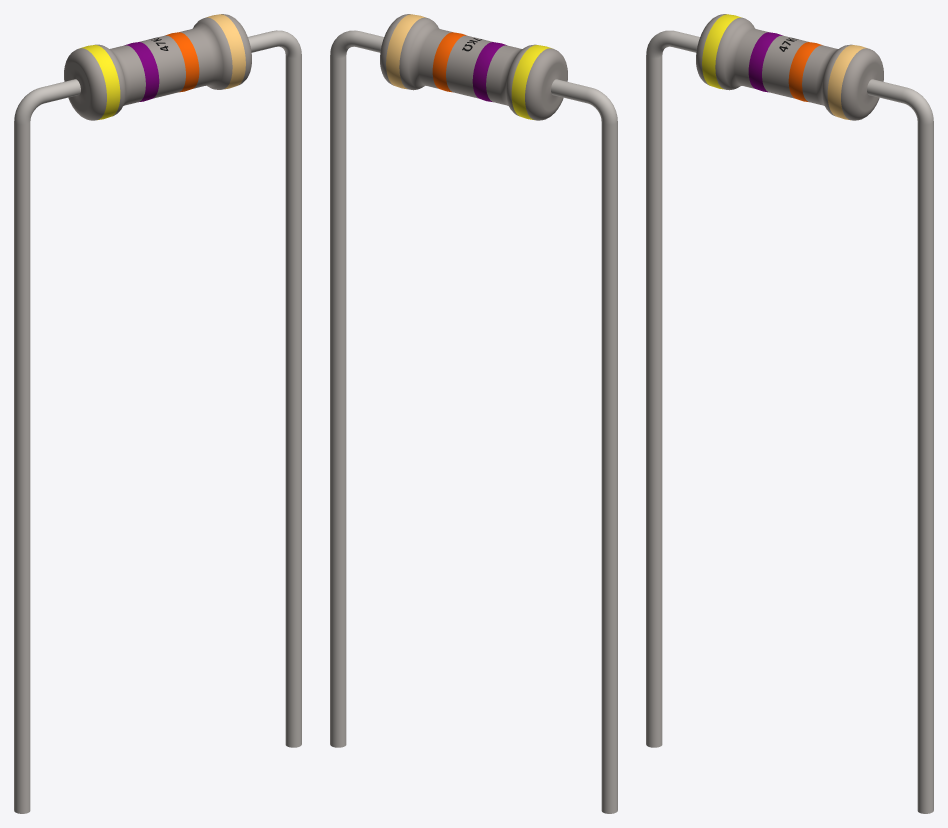
File: Resistor 47K Ohm v1.fbx
3 renders of one model, left to right at view 1: azimuth 30°, elevation 25°; view 2: azimuth 150°, elevation 25°; view 3: azimuth 330°, elevation 25°, orthographic.
Visible parts, largest first — view 1: Body1; view 2: Body1; view 3: Body1.
Boxes of the visible parts, x1=… form: Body1: x1=14, y1=14, x2=301, y2=813; Body1: x1=330, y1=14, x2=617, y2=813; Body1: x1=646, y1=14, x2=933, y2=813.
Bounding box in the file's own units: 10.69 × 26.62 × 2.44.
